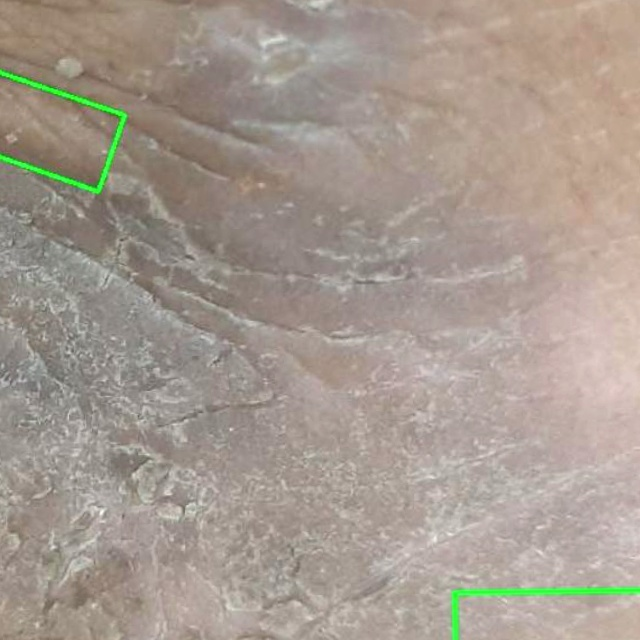Eczema: (0, 73, 123, 191)
